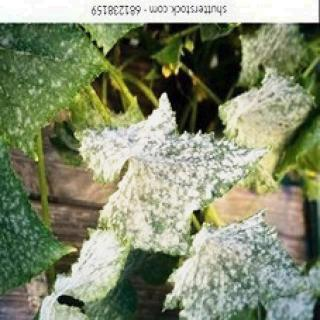grey mildew: (87, 127, 231, 246), (177, 212, 291, 318), (220, 65, 320, 159)
